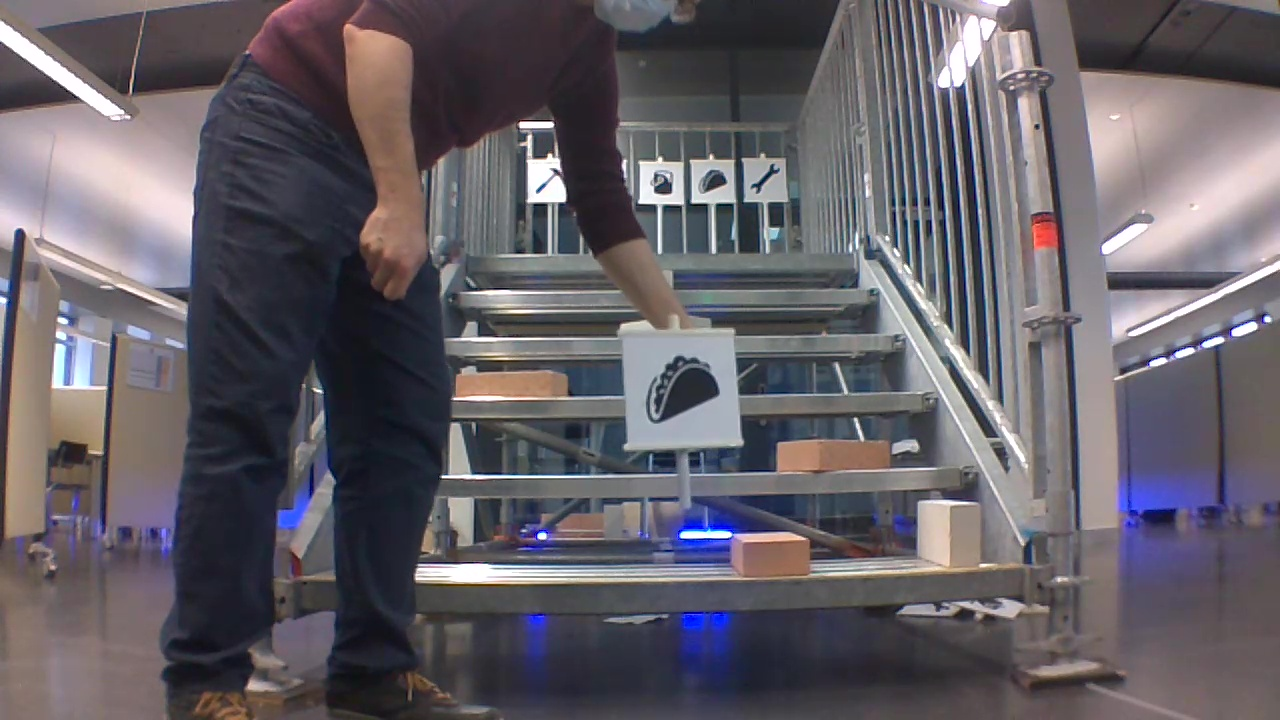brick: (918, 500, 980, 566), (776, 438, 889, 470), (730, 532, 806, 575), (455, 371, 566, 396)
bucket: (645, 166, 676, 196)
edge: (419, 568, 1021, 611)
taco: (637, 350, 723, 425), (694, 166, 728, 196)
wrench: (746, 161, 783, 197)
